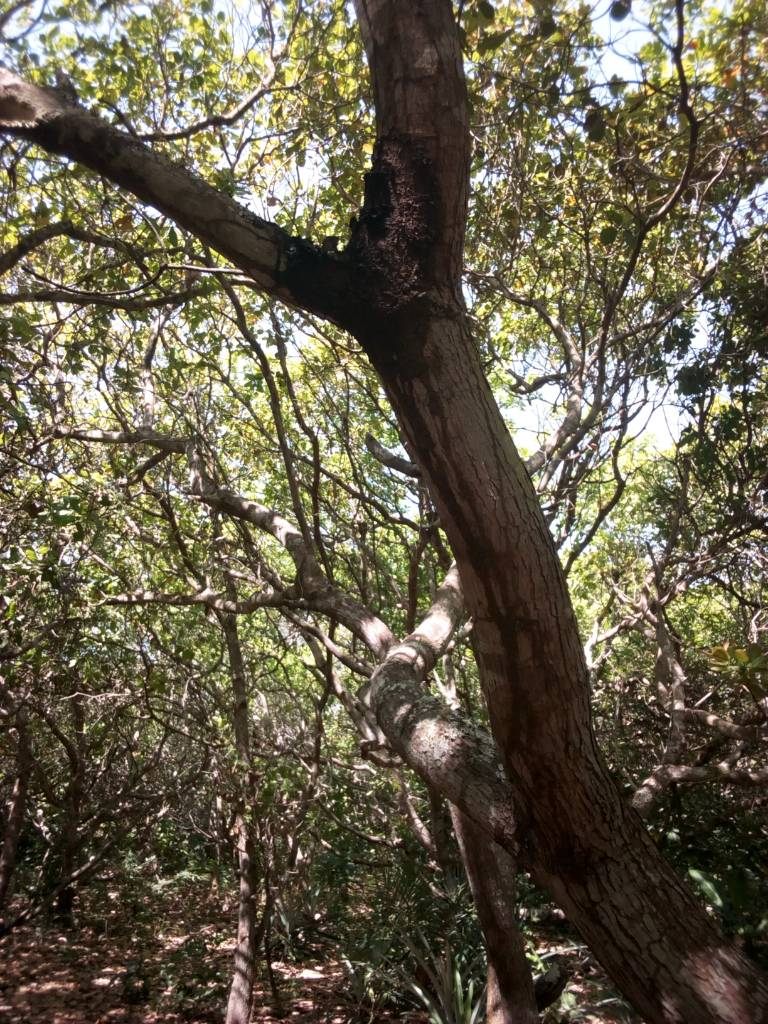Termites: (352, 133, 455, 352), (410, 403, 504, 549), (499, 597, 561, 817)
